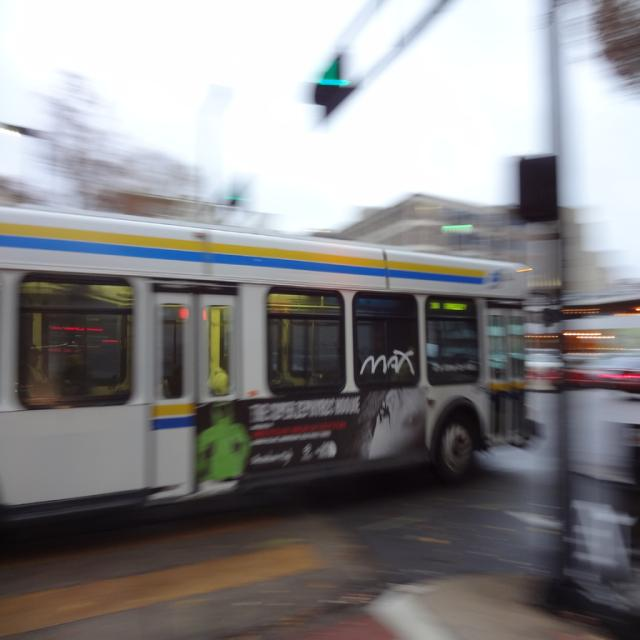Buses: (1, 202, 530, 533)
